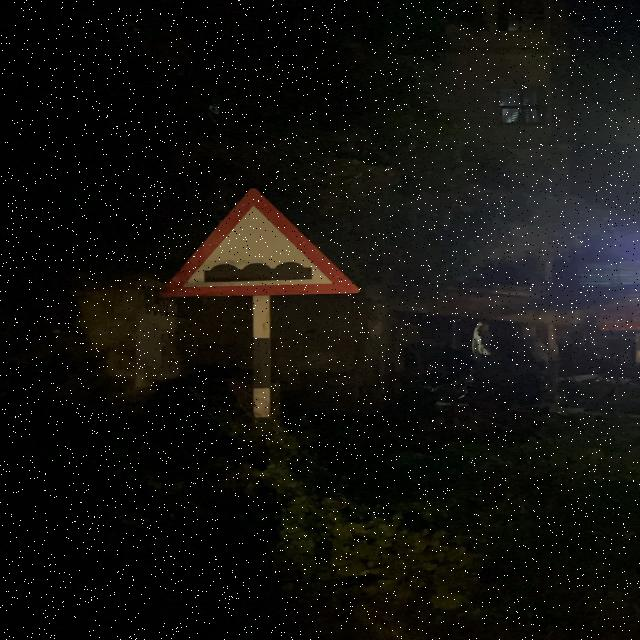Rumble_strip: (149, 183, 374, 294)
